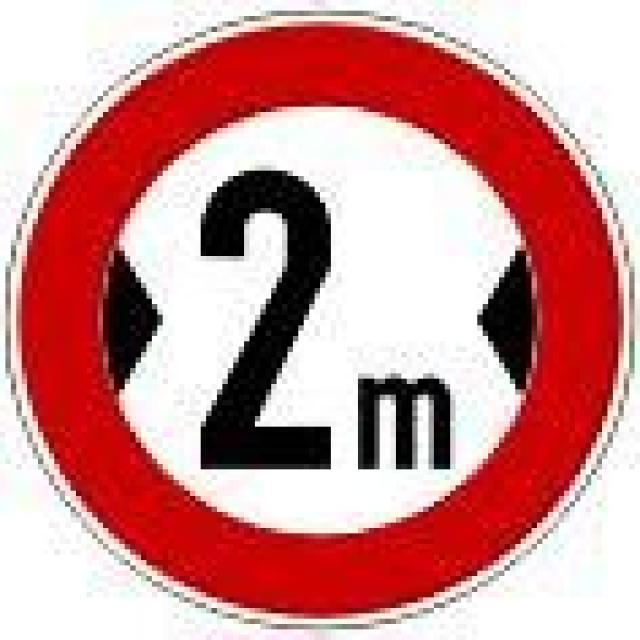width limit: (30, 26, 619, 615)
